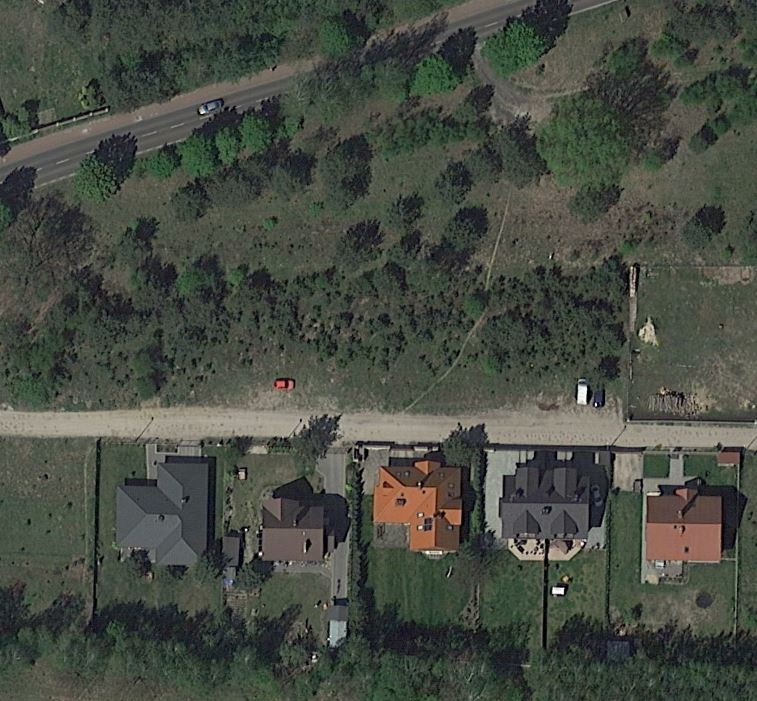family house: (111, 452, 214, 572), (371, 457, 467, 558), (640, 482, 726, 569), (259, 492, 338, 565)
terrace house: (499, 461, 590, 544)
